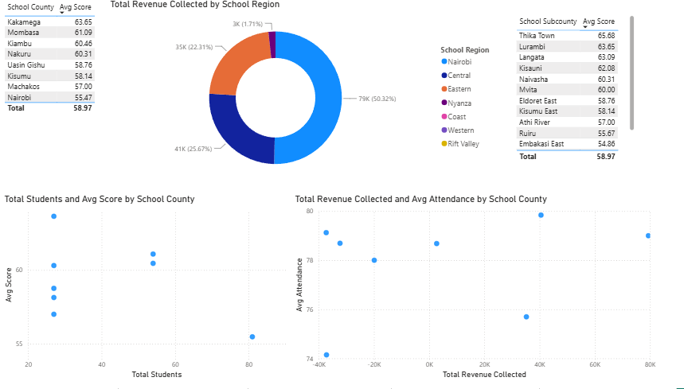

This screenshot's page, from the dashboard's own definition file:
{"tool":"powerbi","page":{"name":"Location-Based Analysis","canvas":[1280,720],"ordinal":4},"visuals":[{"type":"tableEx","fields":{"Values":["DimLocation.School County","_Measures.Avg Score"]},"box":[10.3,0,194.8,225.9],"z":0},{"type":"donutChart","fields":{"Category":["DimLocation.School Region"],"Y":["_Measures.Total Revenue Collected"]},"box":[205.2,0,727.6,348.3],"z":1},{"type":"tableEx","fields":{"Values":["DimLocation.School Subcounty","_Measures.Avg Score"]},"box":[955.2,25.9,227.6,279.3],"z":2},{"type":"scatterChart","fields":{"X":["_Measures.Total Students"],"Y":["_Measures.Avg Score"],"Category":["DimLocation.School County"]},"box":[10.3,360.3,536.2,348.3],"z":3},{"type":"scatterChart","fields":{"X":["_Measures.Total Revenue Collected"],"Y":["_Measures.Avg Attendance"],"Category":["DimLocation.School County"]},"box":[546.6,360.3,675.9,348.3],"z":4}]}

Visuals, with their boxes in screenshot pixels (x1, y1, x2, y2), scaled from the page's 1280x720 canvas onto the 684x389 screenshot:
tableEx - DimLocation.School County x _Measures.Avg Score: left=6, top=0, right=110, bottom=122
donutChart - DimLocation.School Region x _Measures.Total Revenue Collected: left=110, top=0, right=498, bottom=188
tableEx - DimLocation.School Subcounty x _Measures.Avg Score: left=510, top=14, right=632, bottom=165
scatterChart - _Measures.Total Students x _Measures.Avg Score: left=6, top=195, right=292, bottom=383
scatterChart - _Measures.Total Revenue Collected x _Measures.Avg Attendance: left=292, top=195, right=653, bottom=383
